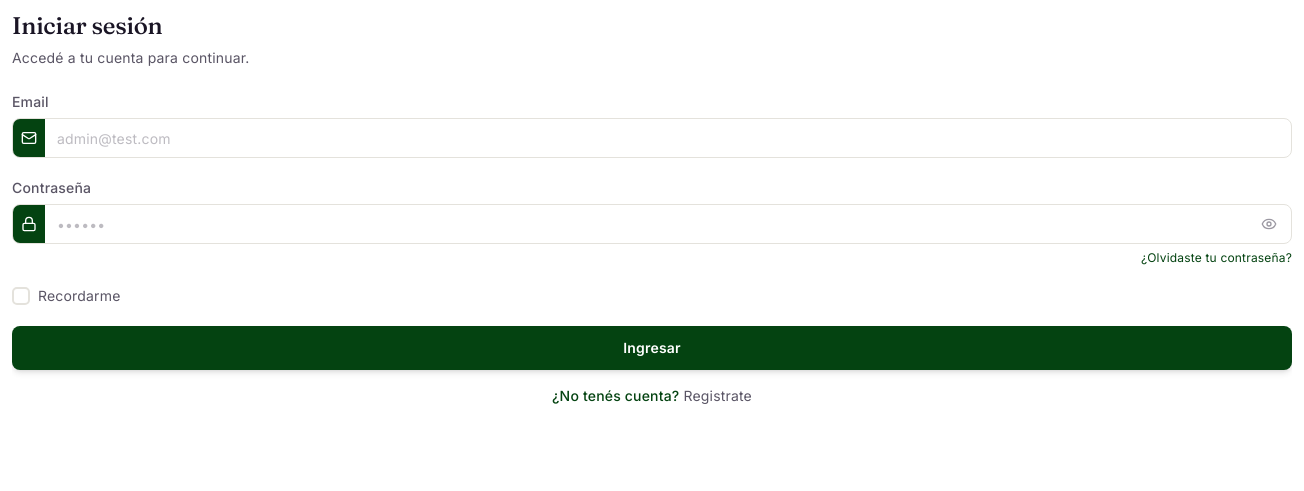
Scenario: LoginPage › shows the server message after a failed login
The image size is (1304, 491).
Expected: the heading "Iniciar sesión" is shown, [12,11,162,40]
Type "user@test.com" into the field with placeholder "admin@test.com" at (668, 138), box [45,119,1291,157]
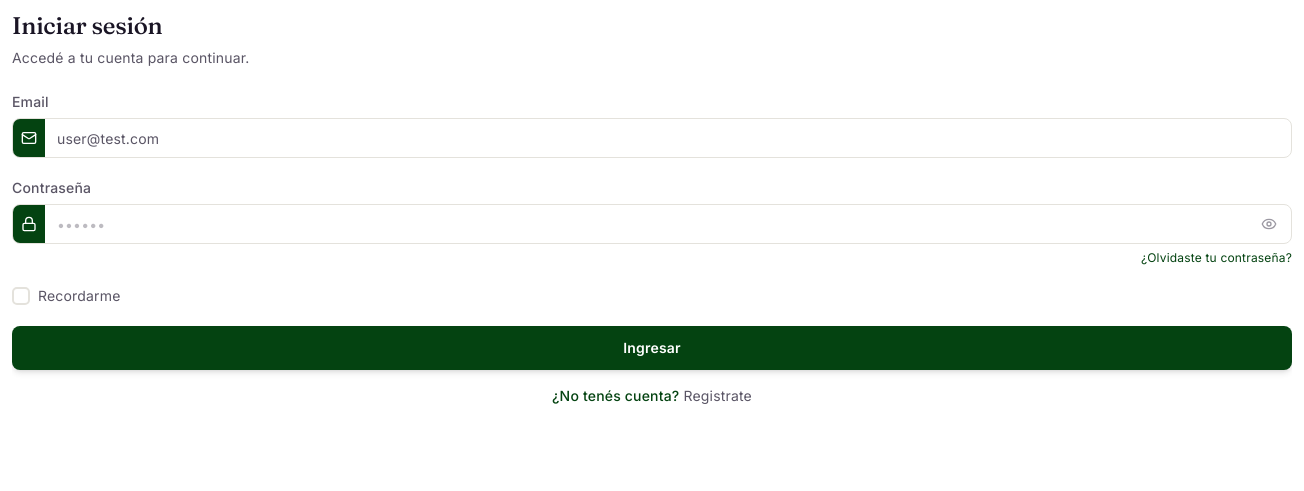
Type "wrong-password" into the password field with placeholder "••••••" at (651, 224), box [45,205,1257,243]
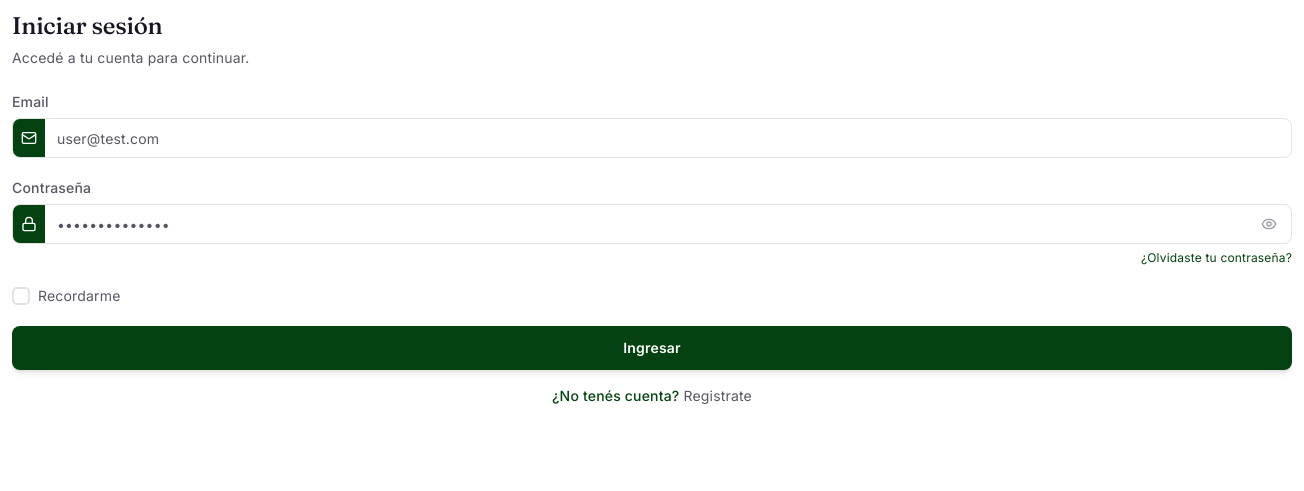
Click the button "Ingresar" at (652, 348), box [12,326,1292,370]
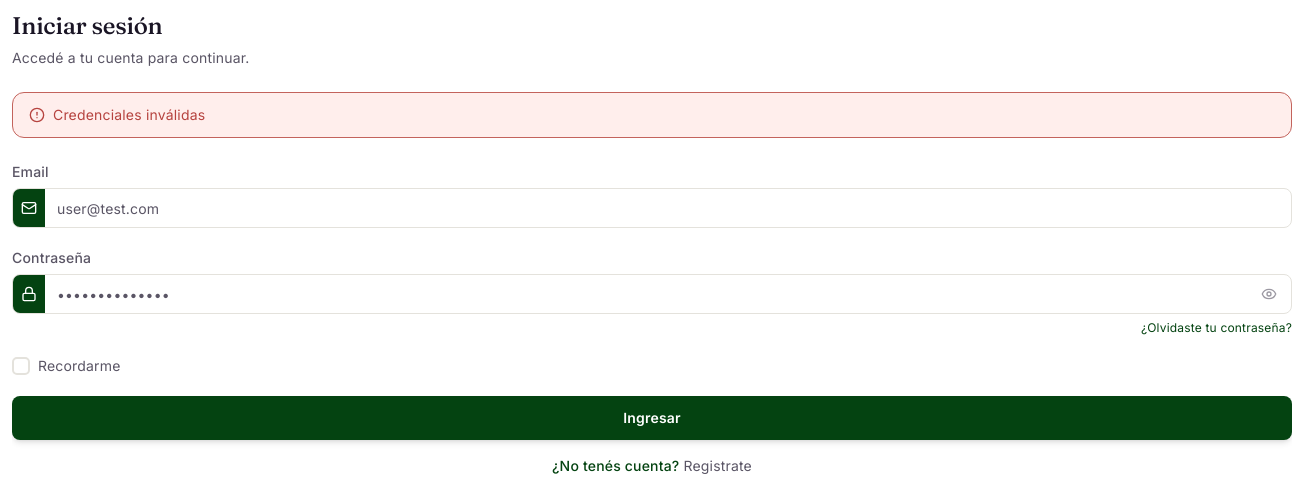
Expected: the text "Credenciales inválidas" is shown, [12,92,1292,138]
